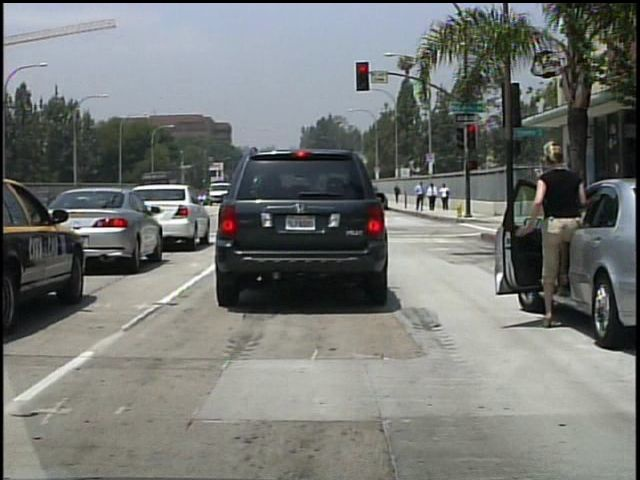person: (526, 141, 598, 335), (416, 179, 427, 212), (440, 183, 452, 211), (428, 183, 439, 212), (393, 183, 403, 205)
